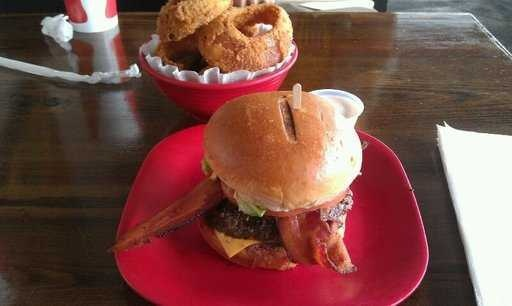hamburger: (178, 73, 381, 259)
